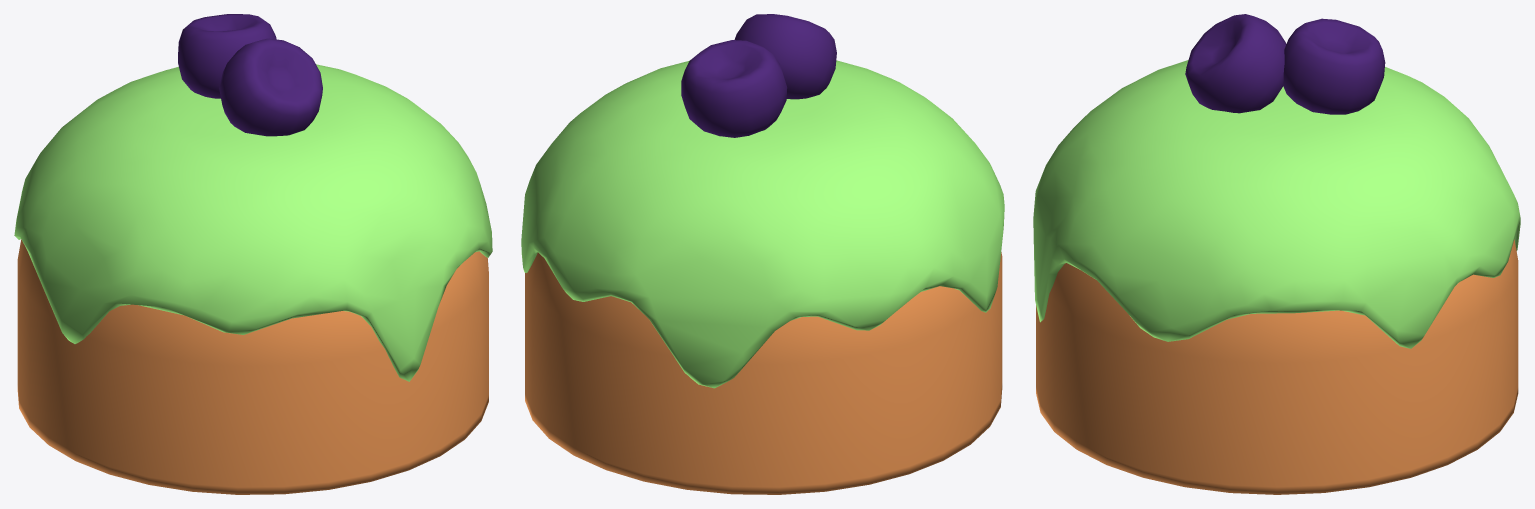
Rendered from Cake5.fbx.
The picture shows the model from 3 angles, left to right: view 1: azimuth 30°, elevation 25°; view 2: azimuth 150°, elevation 25°; view 3: azimuth 270°, elevation 25°; orthographic projection. The views are drawn at different scales.
Visible parts, largest first — view 1: Cake5; view 2: Cake5; view 3: Cake5.
Boxes of the visible parts, x1,y1,x2,y2 form: Cake5: [14, 14, 492, 494]; Cake5: [521, 14, 1004, 494]; Cake5: [1033, 14, 1520, 494].
Size of the model in its own units: 27.53 by 23.16 by 27.5.
